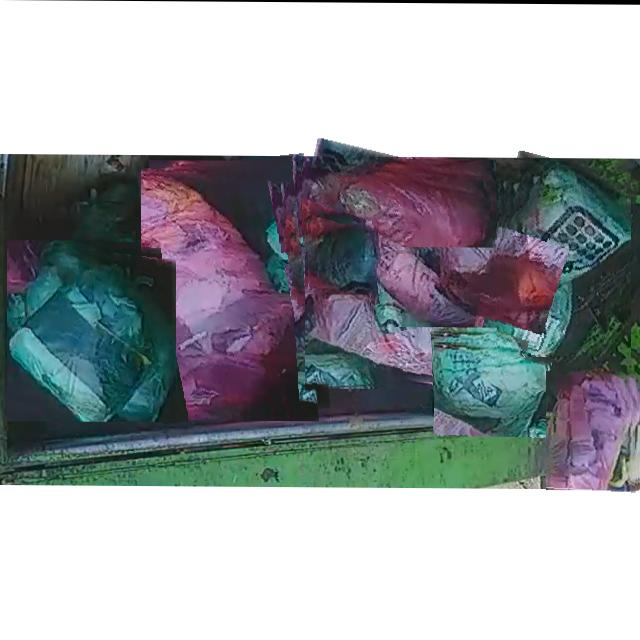general_trashbag: (8, 245, 177, 421), (498, 162, 630, 355), (31, 255, 172, 418), (434, 343, 549, 435), (506, 272, 582, 354)
other_trashbag: (142, 168, 313, 420), (306, 255, 498, 381), (303, 167, 494, 253), (371, 247, 560, 326), (547, 370, 634, 490), (309, 223, 379, 294)
